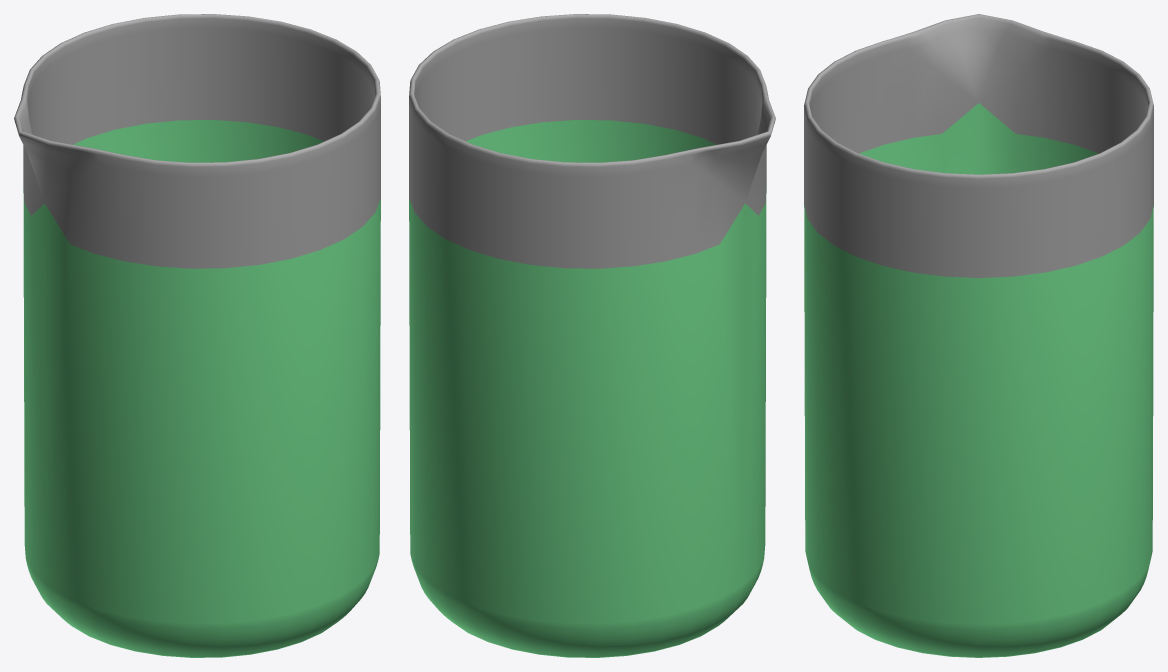
Rendered from beaker01.fbx.
3 renders of one model, left to right at view 1: azimuth 30°, elevation 25°; view 2: azimuth 150°, elevation 25°; view 3: azimuth 270°, elevation 25°, orthographic. The views are drawn at different scales.
Parts seen in each view (by area): view 1: beaker; view 2: beaker; view 3: beaker.
Boxes of the visible parts, x1,y1,x2,y2 form: beaker: (14, 14, 380, 657); beaker: (409, 14, 775, 657); beaker: (804, 14, 1153, 657).
Bounding box in the file's own units: 3.72 × 5.32 × 3.4.
